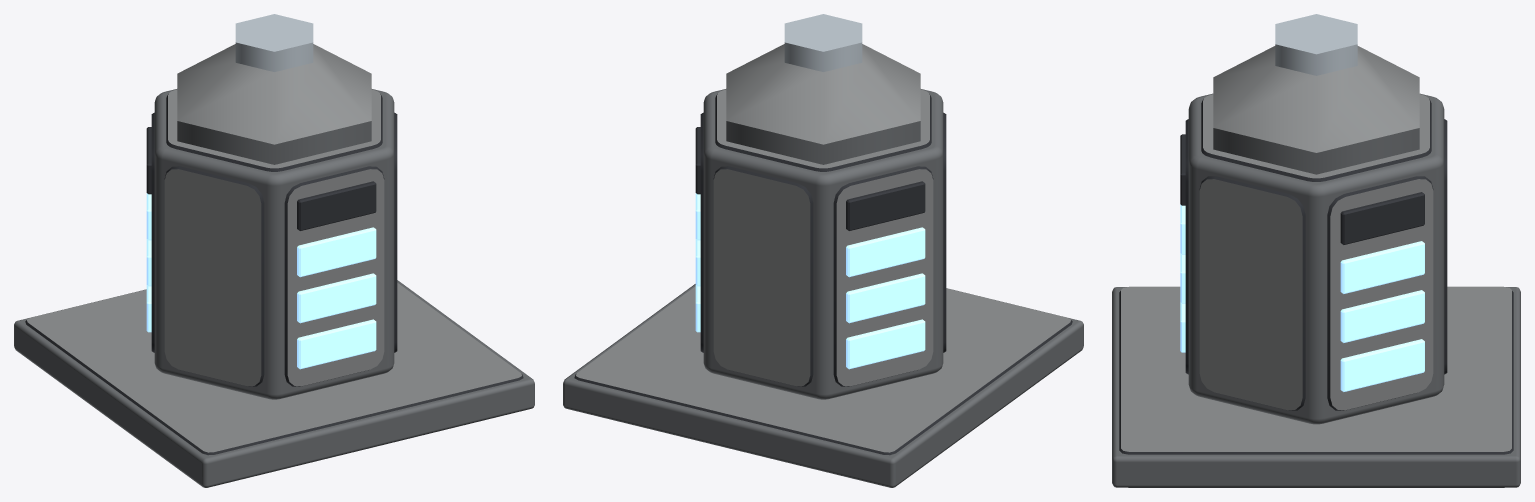
Rendered from R4X_ChargeCapacity.glb.
3 renders of one model, left to right at view 1: azimuth 30°, elevation 25°; view 2: azimuth 150°, elevation 25°; view 3: azimuth 270°, elevation 25°, orthographic. The views are drawn at different scales.
Parts seen in each view (by area): view 1: R4X_ChargeCapacity_Body; view 2: R4X_ChargeCapacity_Body; view 3: R4X_ChargeCapacity_Body.
Boxes of the visible parts, <box> form: R4X_ChargeCapacity_Body: <box>14,14,534,487</box>; R4X_ChargeCapacity_Body: <box>563,14,1083,487</box>; R4X_ChargeCapacity_Body: <box>1112,14,1520,487</box>.
Bounding box in the file's own units: 0.514 × 0.515 × 0.514.
